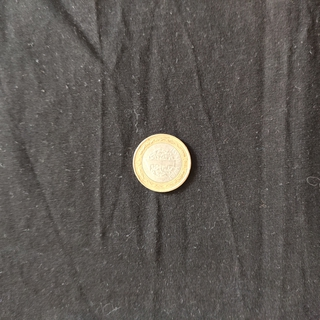1TL: (131, 131, 193, 194)
